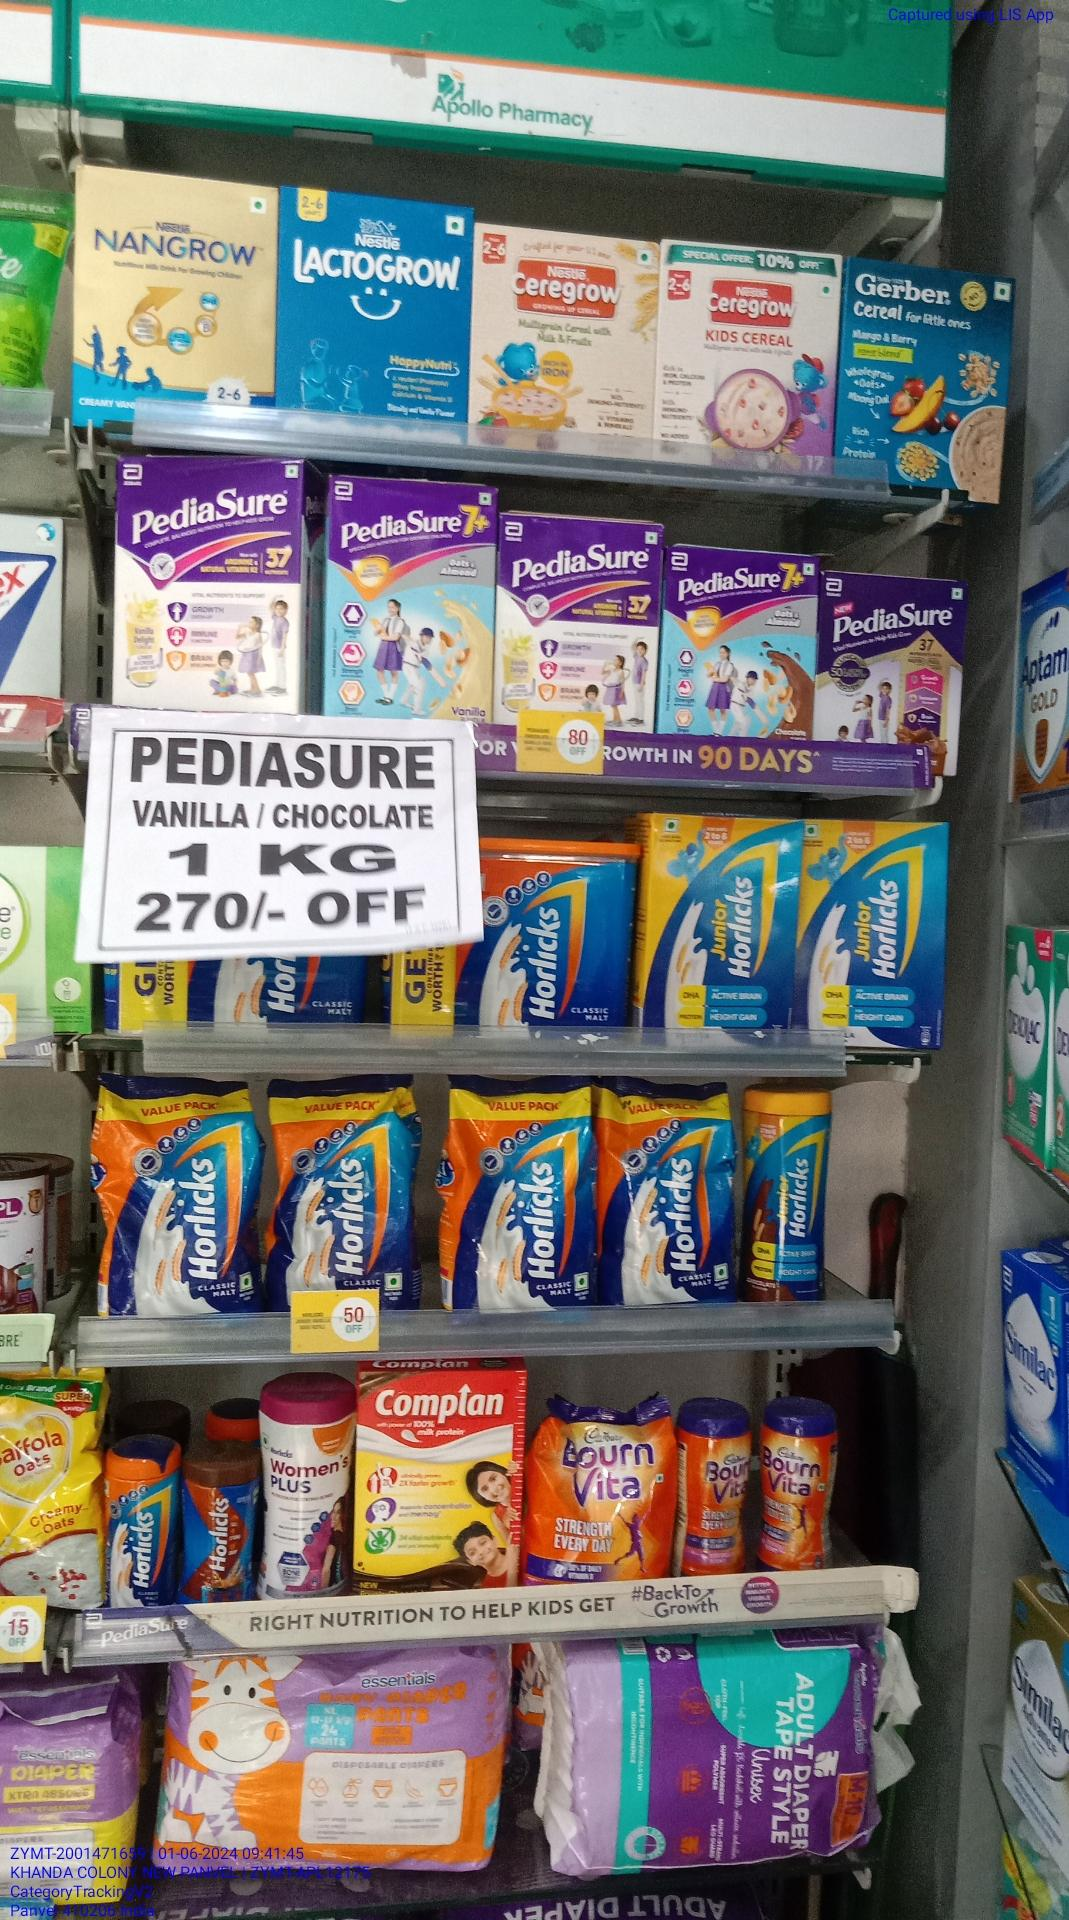COMPLAN_CHOCOLATE_500_GMS_PACK: (354, 1367, 520, 1599)
HORLICK_CHOCOLATE_200_G_JAR: (186, 1452, 258, 1603)
HORLICK_CLASSIC_MALT_200_G_JAR: (103, 1437, 179, 1607)
